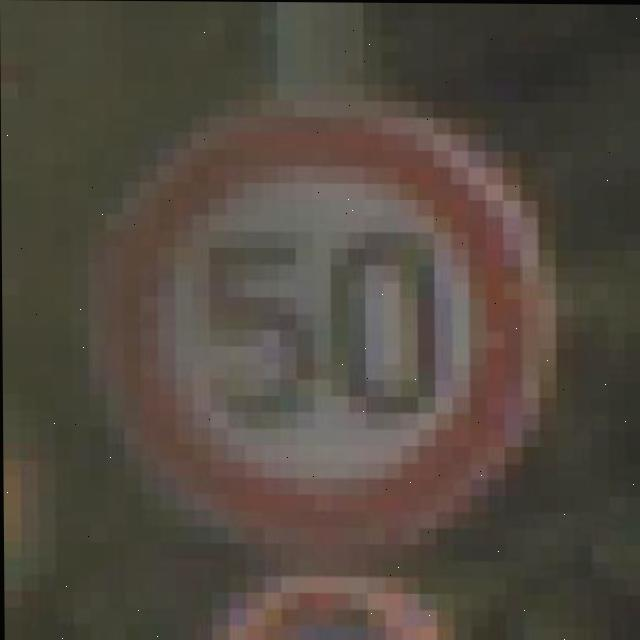Speed limit 50: (105, 103, 552, 546)
